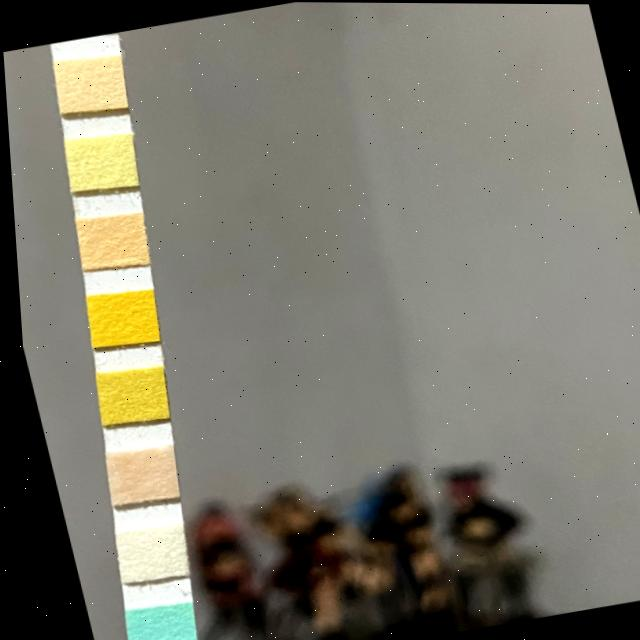Bilirubin: (110, 522, 179, 581)
Blood: (86, 288, 156, 346)
Glucose: (117, 601, 186, 640)
Ketone: (100, 444, 171, 505)
Protein: (61, 133, 135, 192)
SpGravity: (90, 368, 164, 422)
Urobilinogen: (51, 54, 126, 112)
pH: (72, 211, 148, 270)
